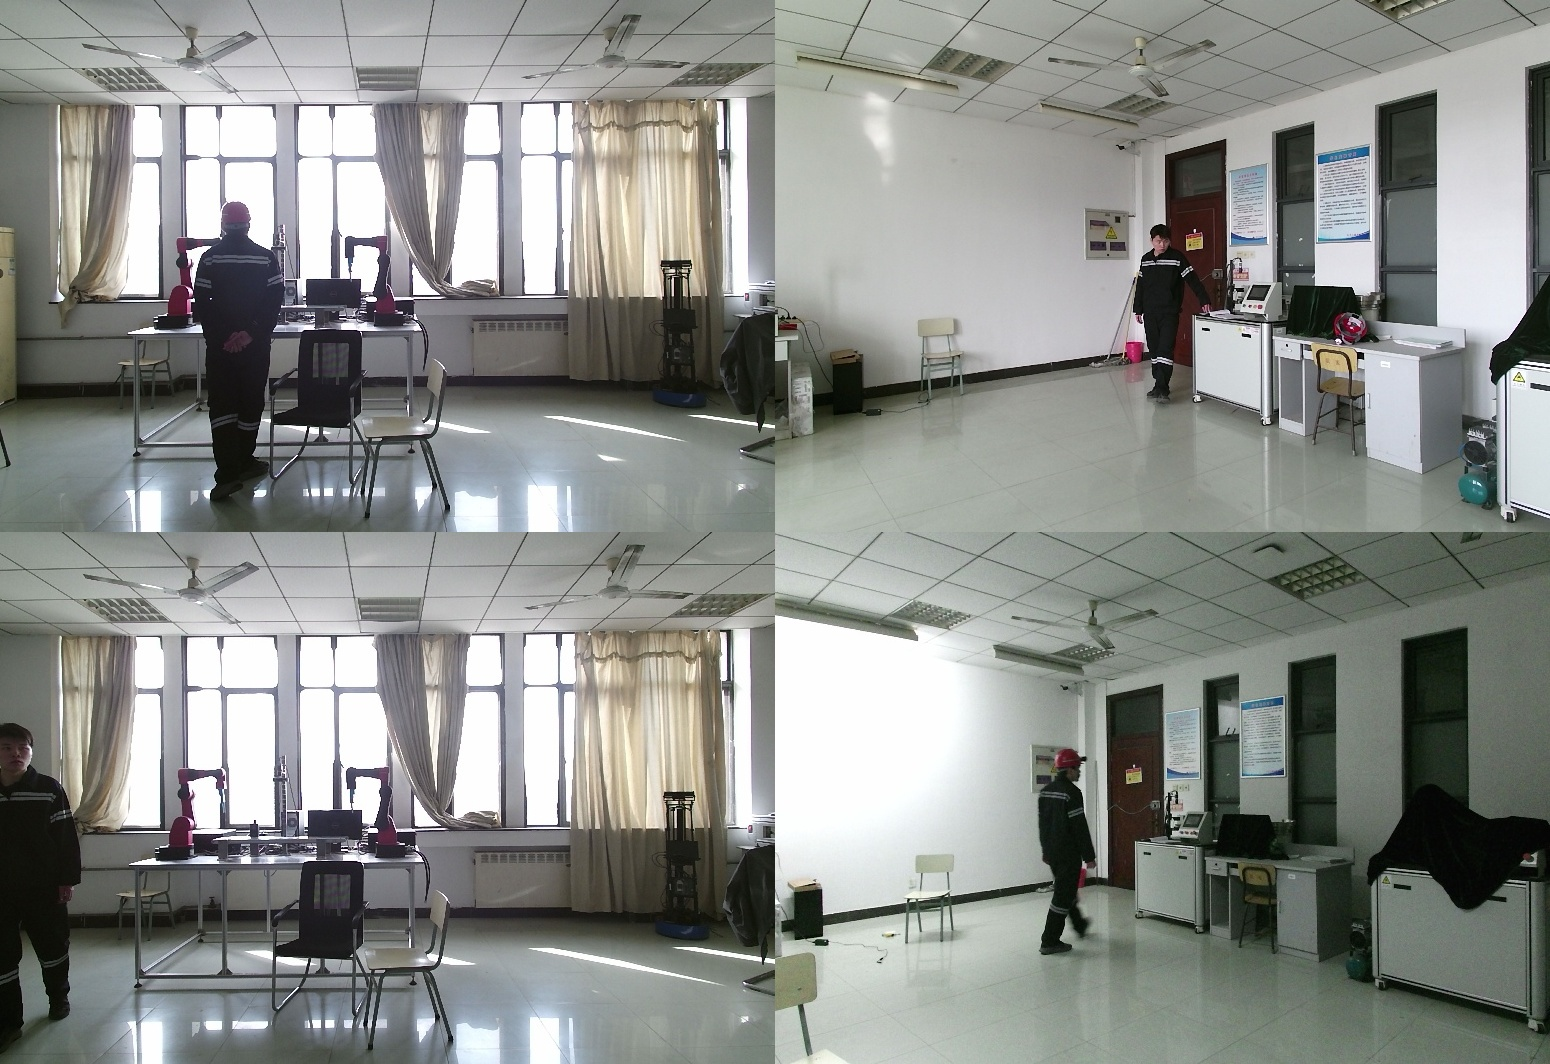person: (190, 202, 294, 498), (3, 723, 88, 1048), (1034, 750, 1101, 960), (1137, 226, 1213, 408)
